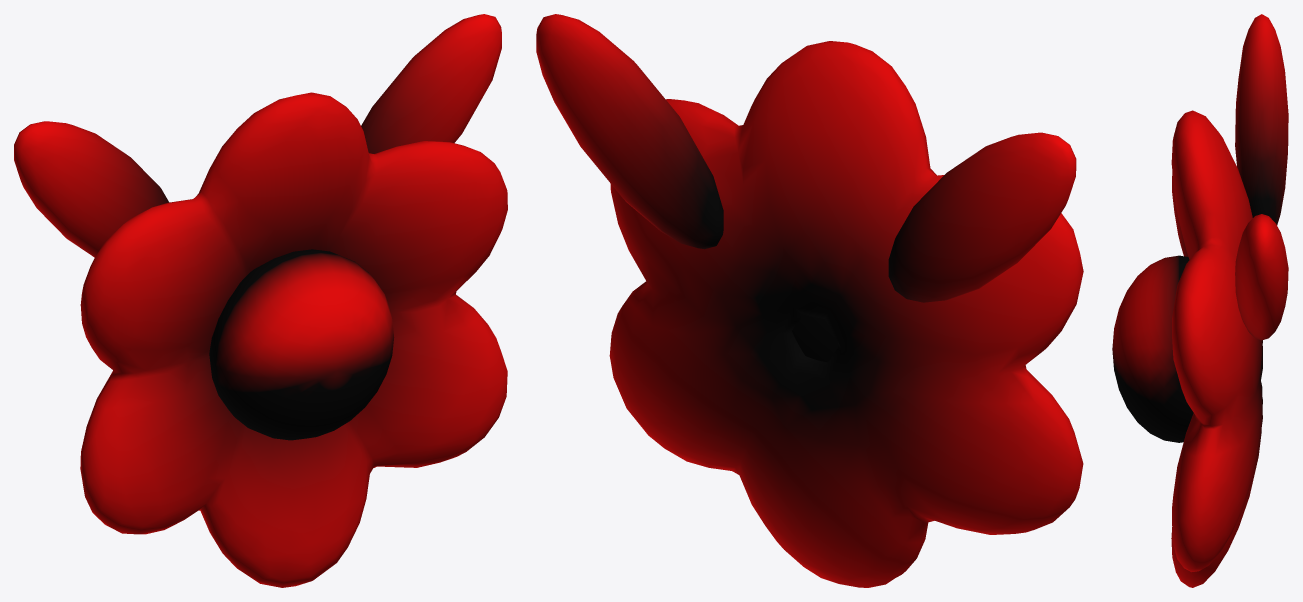
Rendered from prop-hook.glb.
3 views of the same model, side by side, from view 1: azimuth 30°, elevation 25°; view 2: azimuth 150°, elevation 25°; view 3: azimuth 270°, elevation 25° (orthographic). The views are drawn at different scales.
Parts seen in each view (by area): view 1: petals, bud, leaves; view 2: petals, leaves, bud; view 3: petals, leaves, bud.
Part boxes in pixels (x1,y1,x2,y2): petals: (80,92,507,587); bud: (209,249,394,440); leaves: (14,14,501,257); petals: (609,41,1083,587); leaves: (536,14,1076,302); bud: (792,315,838,362); petals: (1171,110,1262,587); leaves: (1235,14,1288,340); bud: (1112,255,1193,442).
Bounding box in the file's own units: 2.38 × 2.3 × 0.79.
